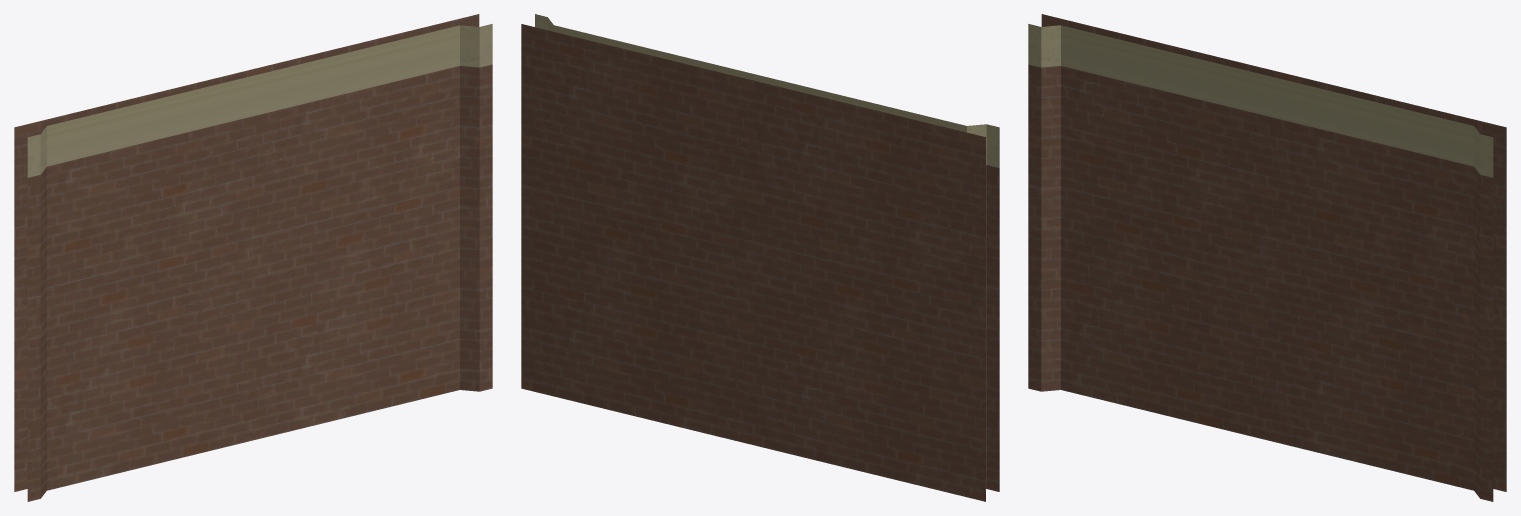
The model's file is Brick_Inset.glb.
3 views of the same model, side by side, from view 1: azimuth 30°, elevation 25°; view 2: azimuth 150°, elevation 25°; view 3: azimuth 330°, elevation 25° (orthographic).
Visible parts, largest first — view 1: Brick_Inset; view 2: Brick_Inset; view 3: Brick_Inset.
Boxes of the visible parts, x1,y1,x2,y2 form: Brick_Inset: [14, 14, 492, 501]; Brick_Inset: [521, 14, 999, 501]; Brick_Inset: [1028, 14, 1506, 501].
Size of the model in its own units: 4 by 3 by 0.2001.
Materials: 2 (2 with a texture image).
